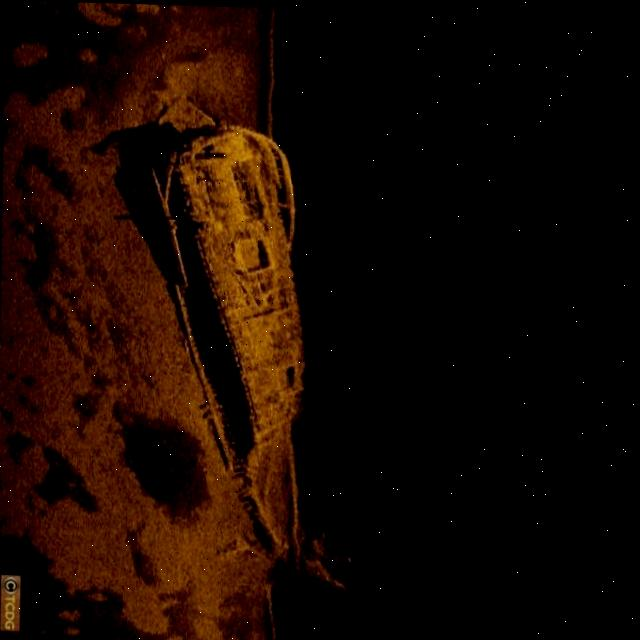shipwreck: (157, 115, 326, 568)
